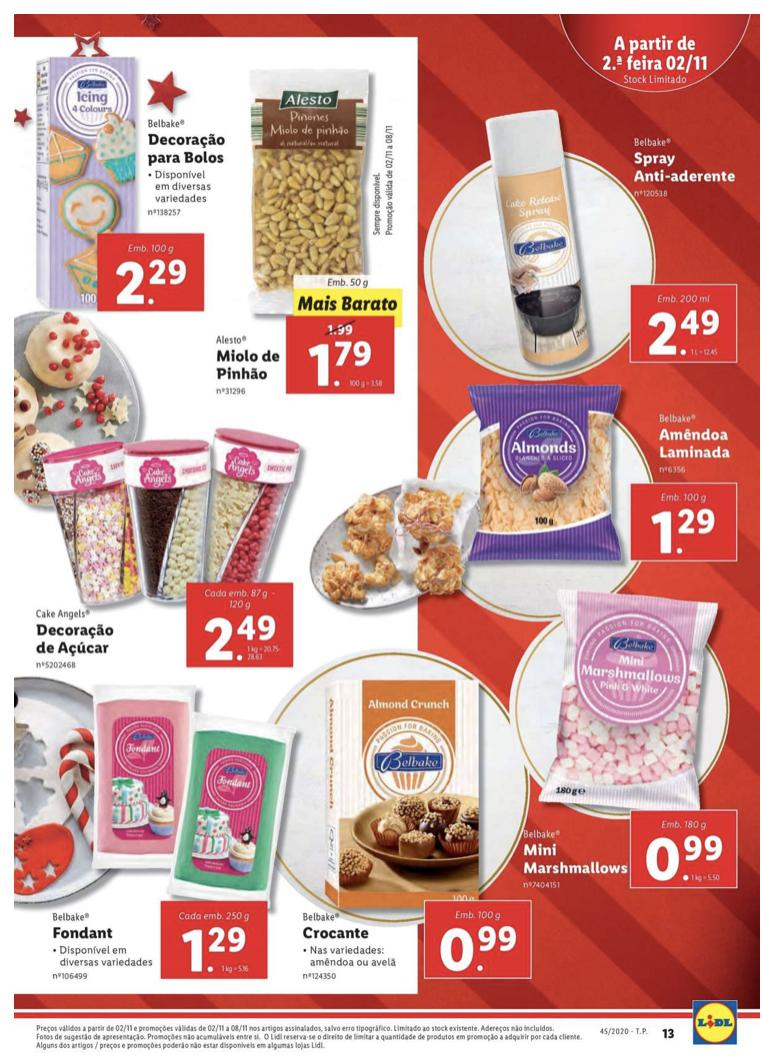name: (623, 147, 741, 188), (523, 842, 629, 878), (31, 620, 124, 660), (144, 130, 231, 167), (654, 425, 735, 460), (211, 346, 281, 383), (303, 925, 379, 945), (49, 920, 107, 943)
price: (99, 251, 204, 308), (173, 922, 265, 979), (641, 834, 731, 889), (199, 613, 289, 667), (303, 338, 394, 391), (432, 922, 518, 978), (639, 305, 727, 358), (644, 497, 719, 559)
product: (16, 675, 291, 975), (18, 417, 324, 672), (516, 588, 749, 914), (294, 663, 520, 989), (468, 97, 741, 363), (210, 72, 424, 400), (14, 30, 237, 324), (452, 372, 737, 575)
